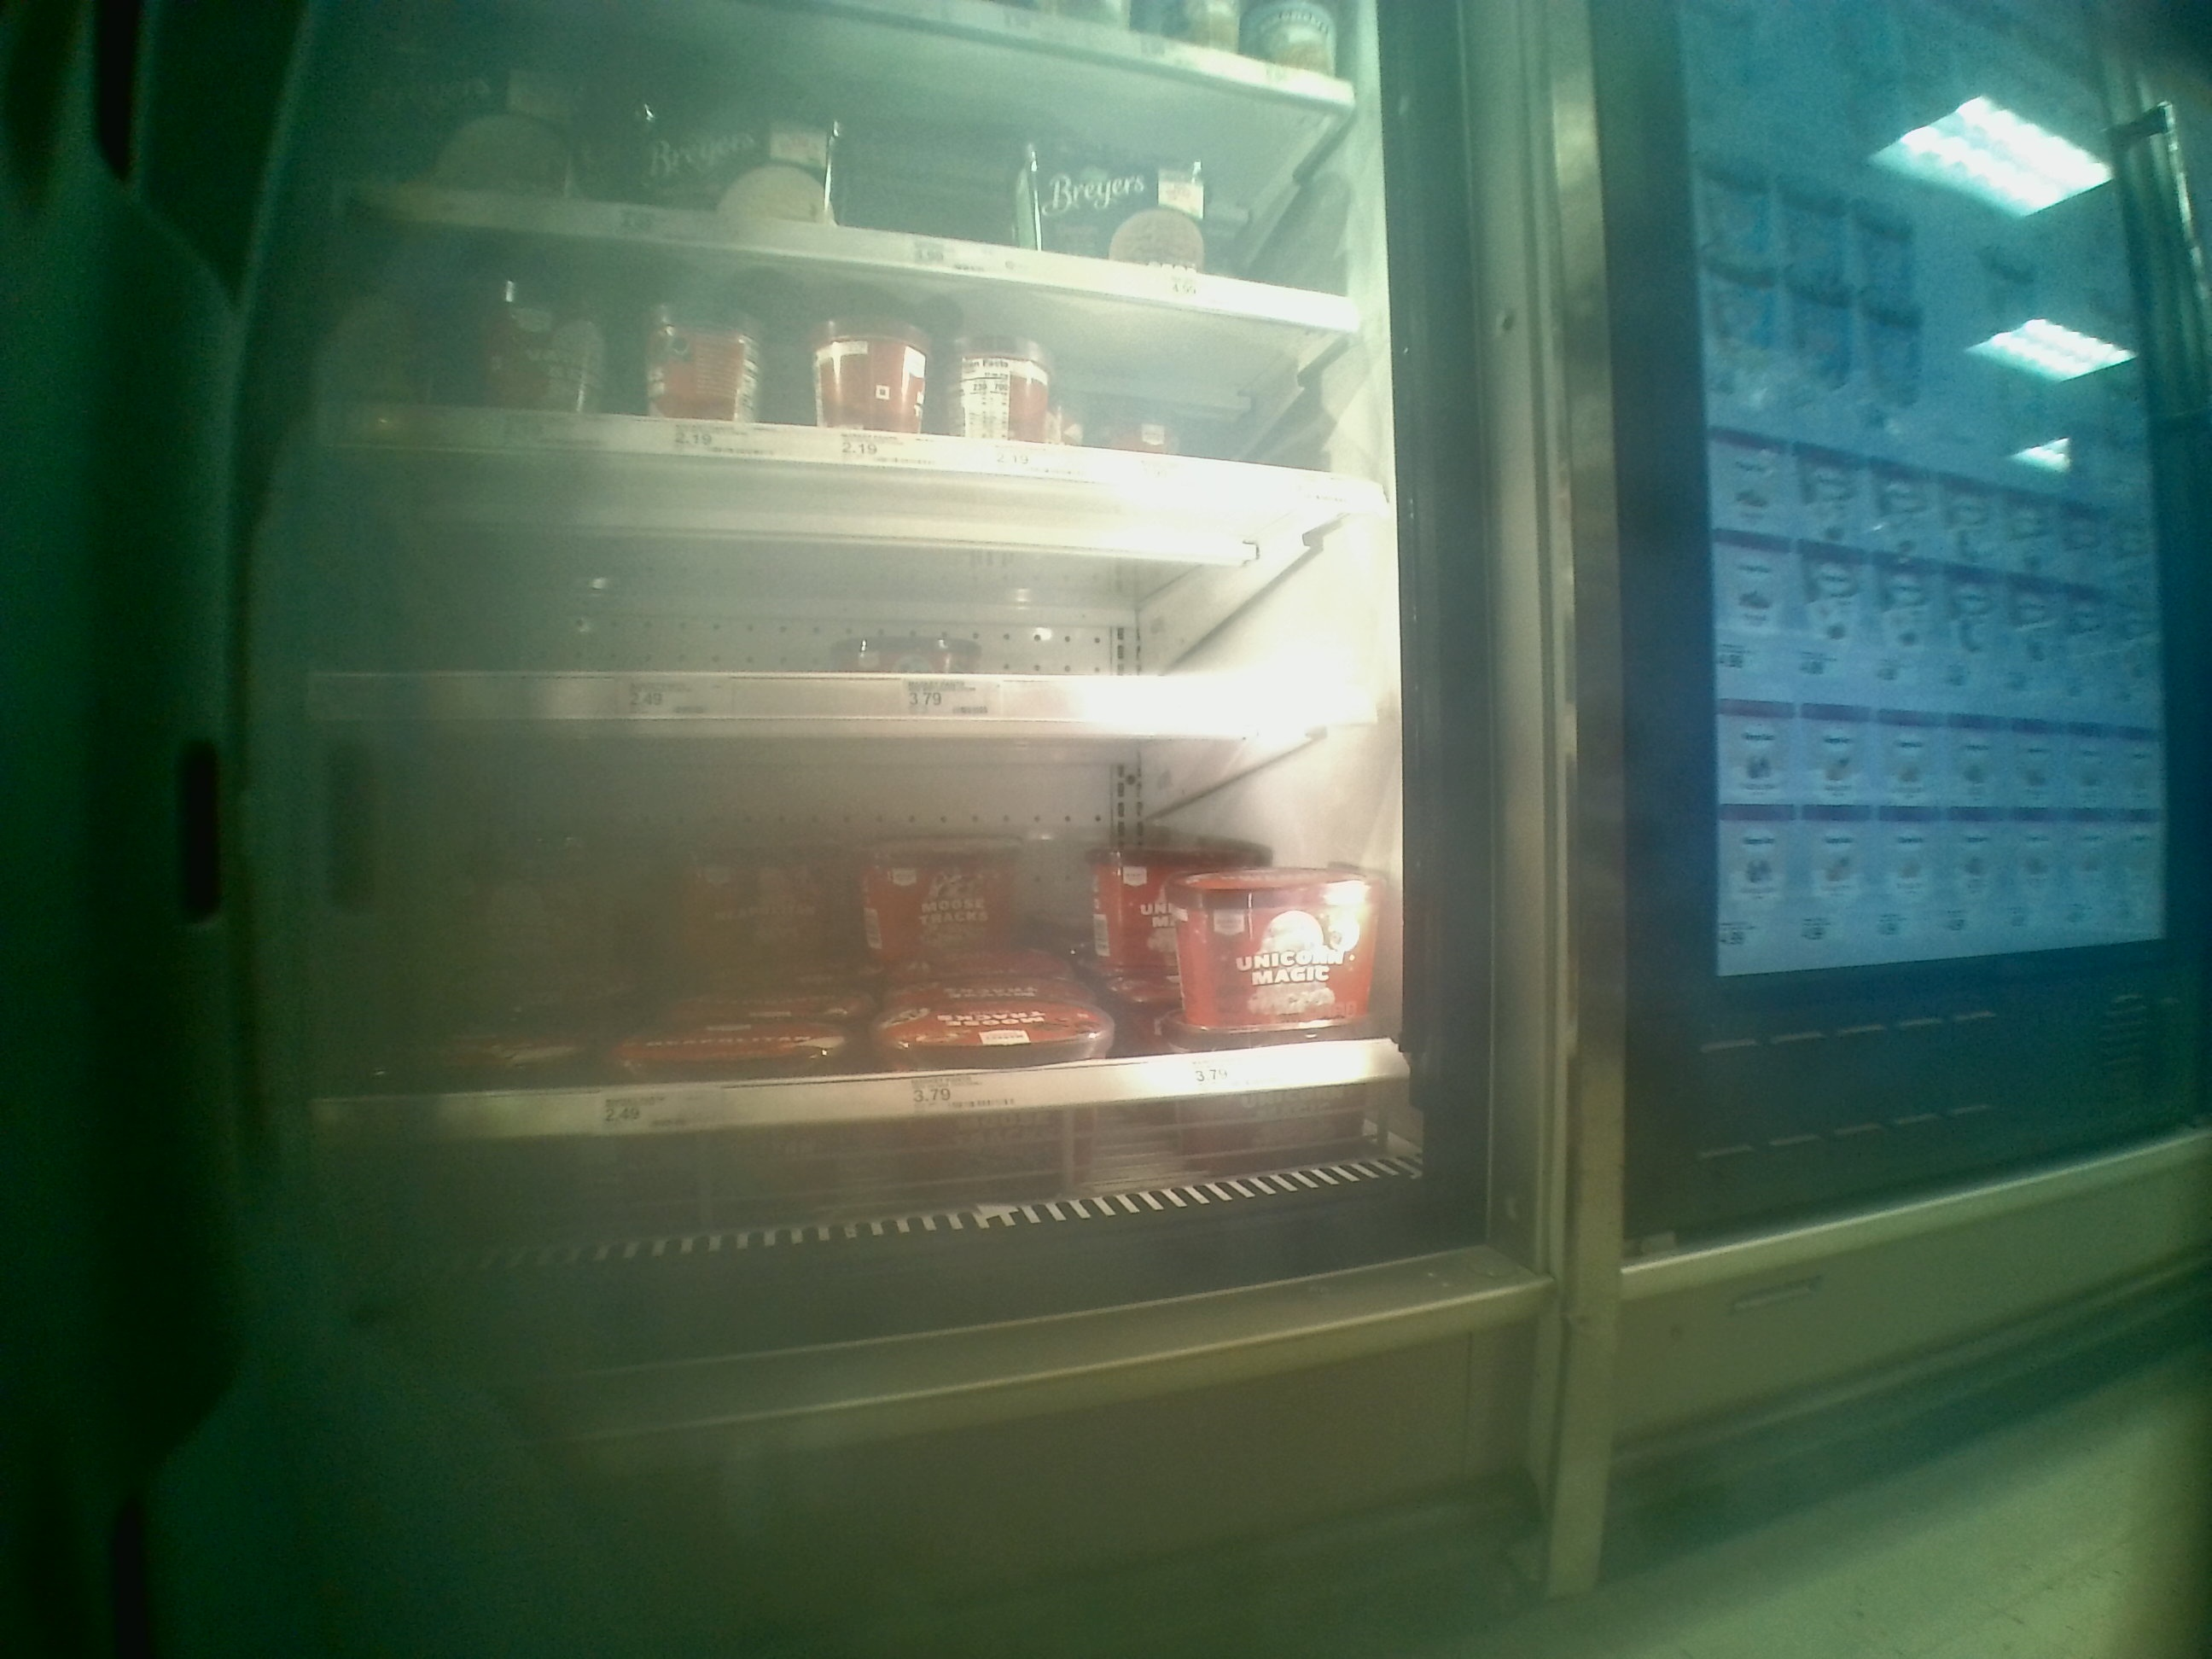ice-cream-shelf: (319, 711, 1420, 1145), (296, 437, 1420, 704)
